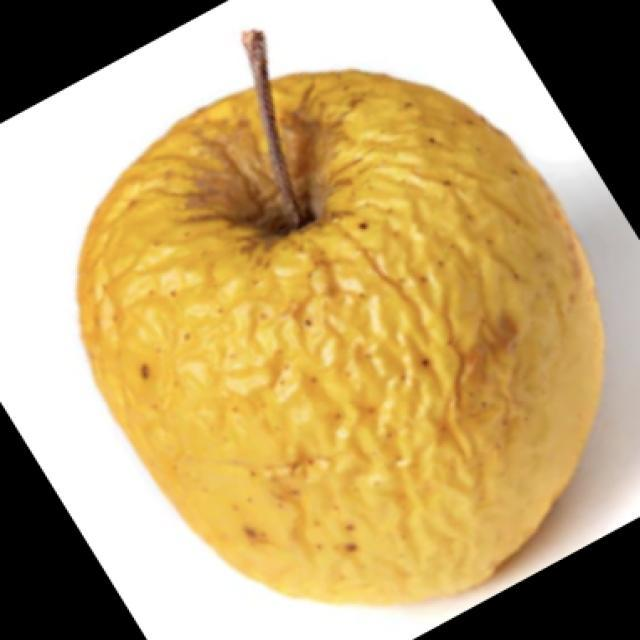Rotten: (119, 59, 574, 594)
